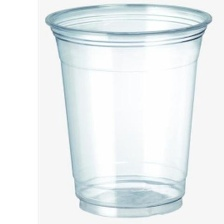glass: (43, 0, 214, 223)
